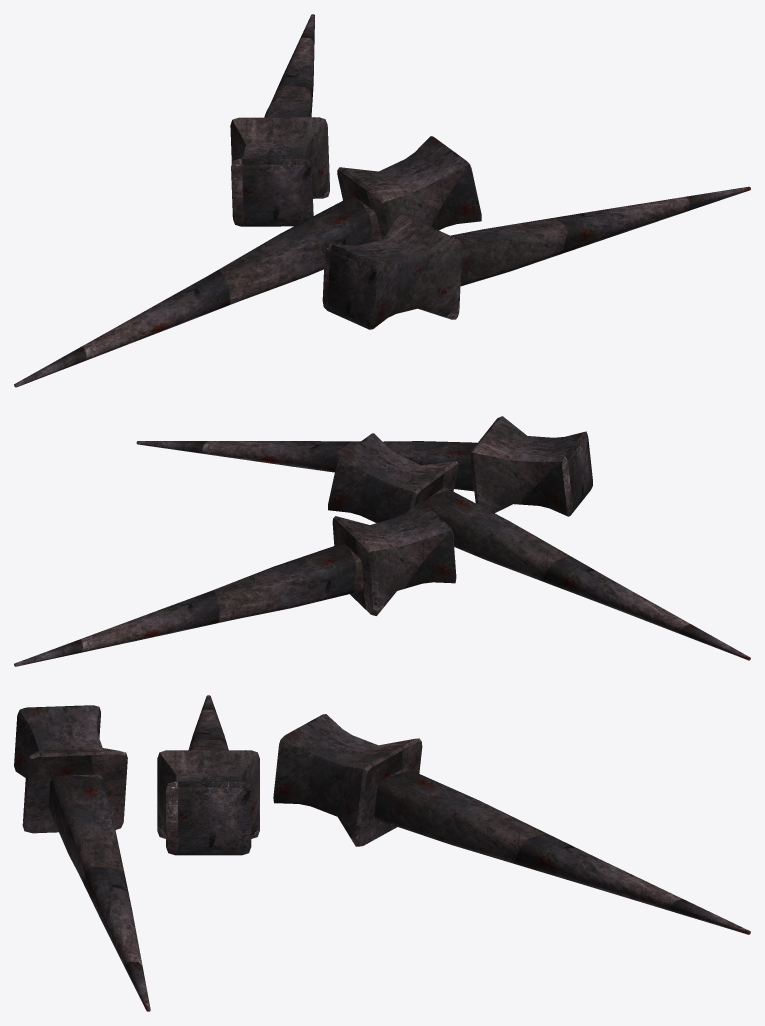
Rendered from Nail.glb.
3 renders of one model, top to bottom at view 1: azimuth 30°, elevation 25°; view 2: azimuth 150°, elevation 25°; view 3: azimuth 270°, elevation 25°, orthographic. The views are drawn at different scales.
Visible parts, largest first — view 1: Nail1, Nail2, Nail3; view 2: Nail3, Nail1, Nail2; view 3: Nail3, Nail2, Nail1.
Part boxes in pixels (x1,y1,x2,y2): Nail1: [14, 136, 481, 387]; Nail2: [322, 186, 750, 329]; Nail3: [230, 14, 329, 226]; Nail3: [14, 501, 456, 666]; Nail1: [328, 433, 750, 660]; Nail2: [136, 416, 592, 516]; Nail3: [273, 714, 750, 934]; Nail2: [14, 705, 150, 1011]; Nail1: [157, 695, 259, 855].
Bounding box in the file's own units: 0.2119 × 0.0381 × 0.1821.
Materials: 1 (1 with a texture image).
